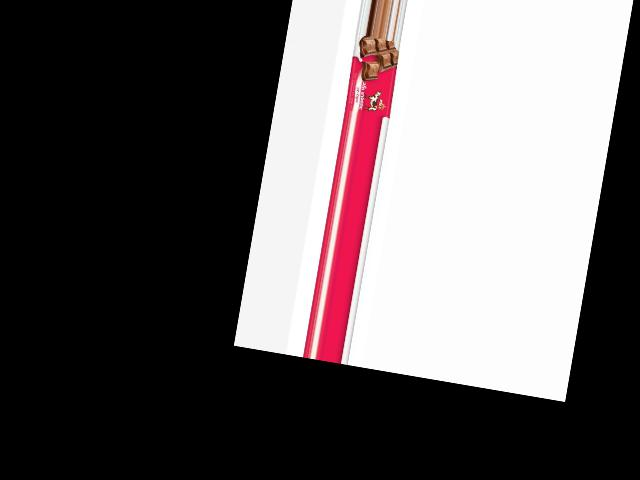chocolate: (343, 35, 401, 119)
